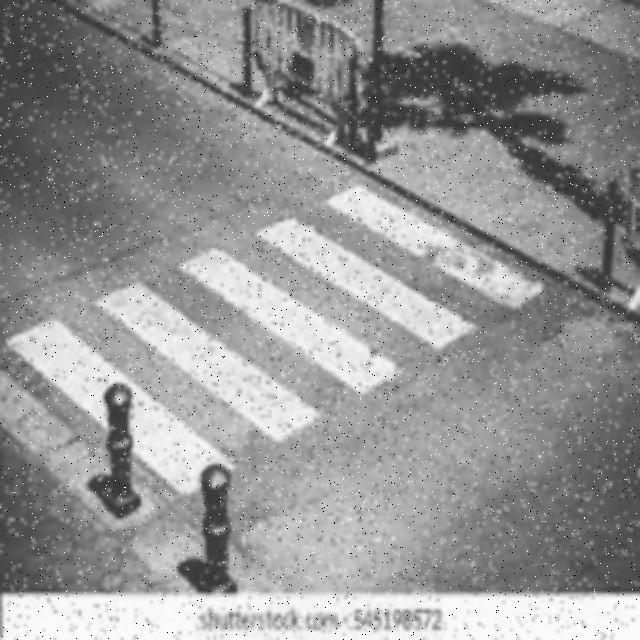crosswalk: (0, 185, 580, 529)
